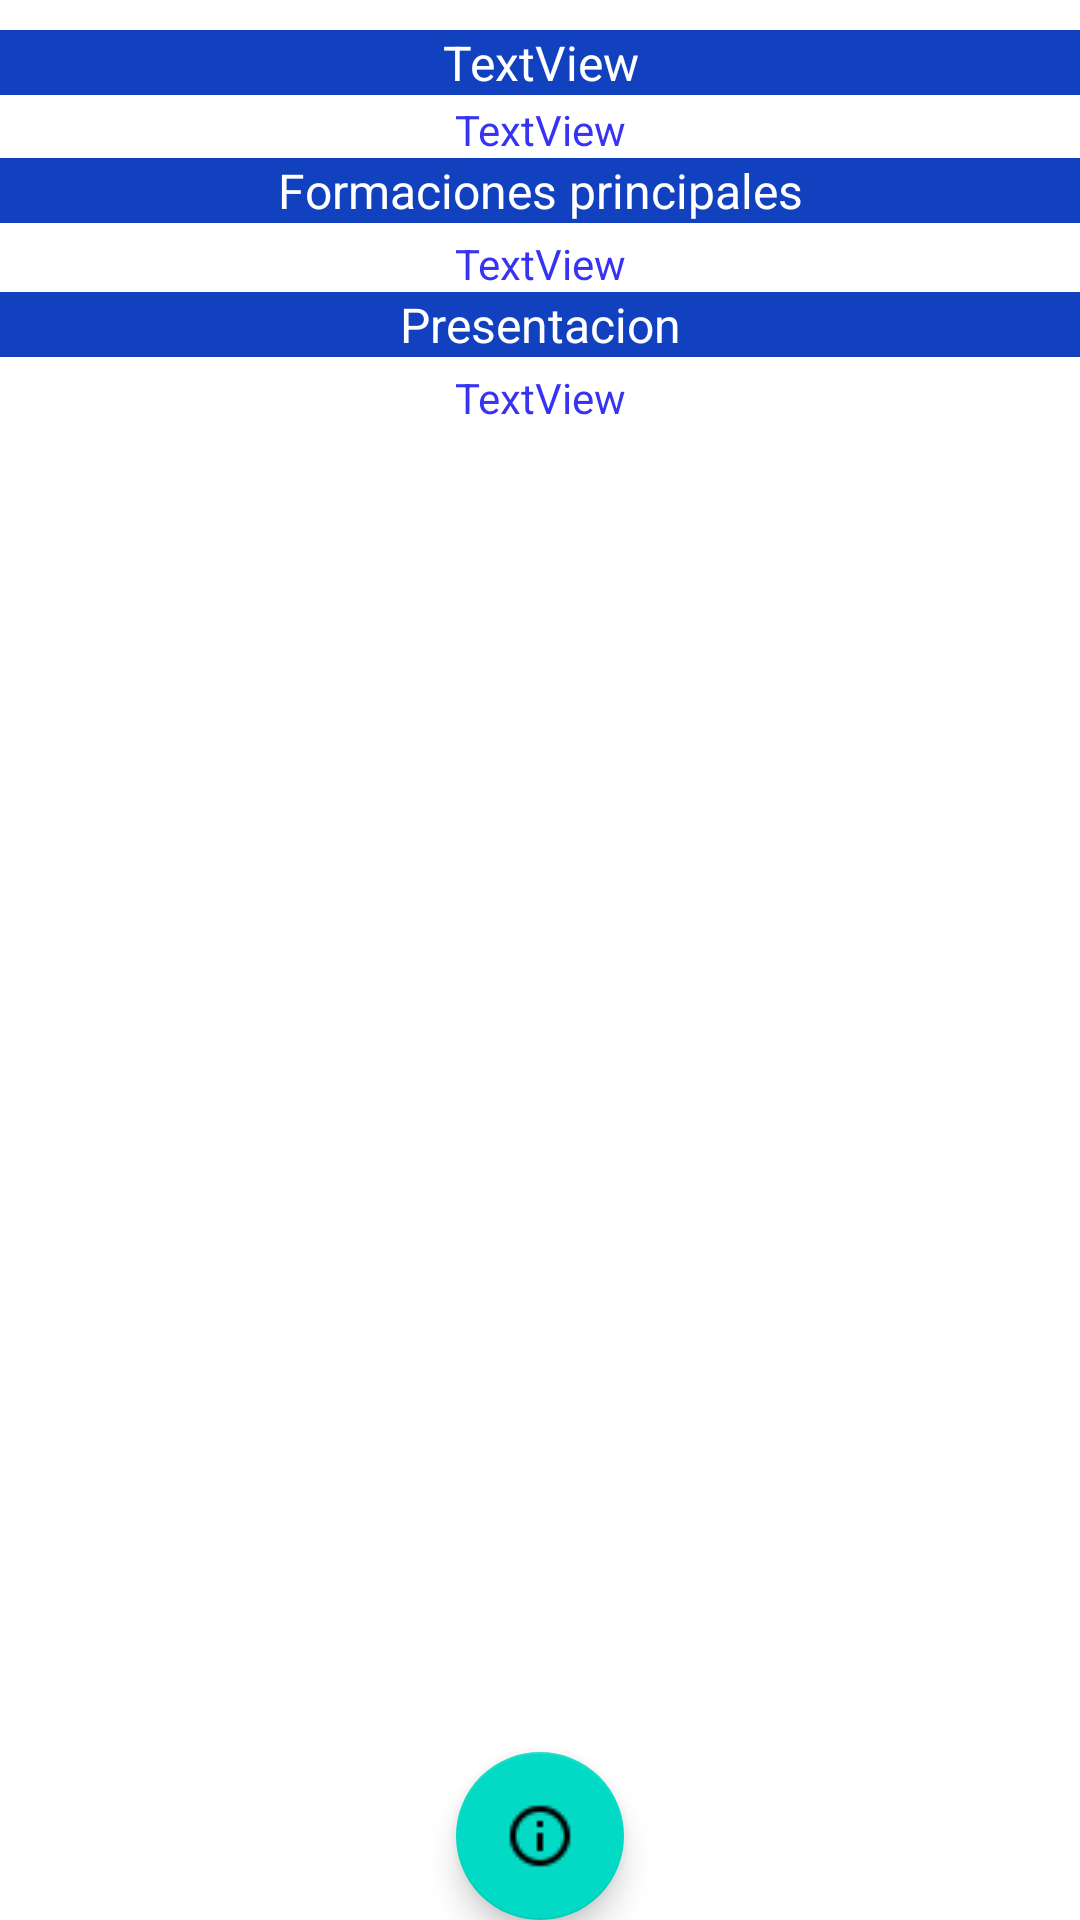

Named icons in this screenshot (1080 × 1920) and their centers, [x,y]:
info: [540,1836]
